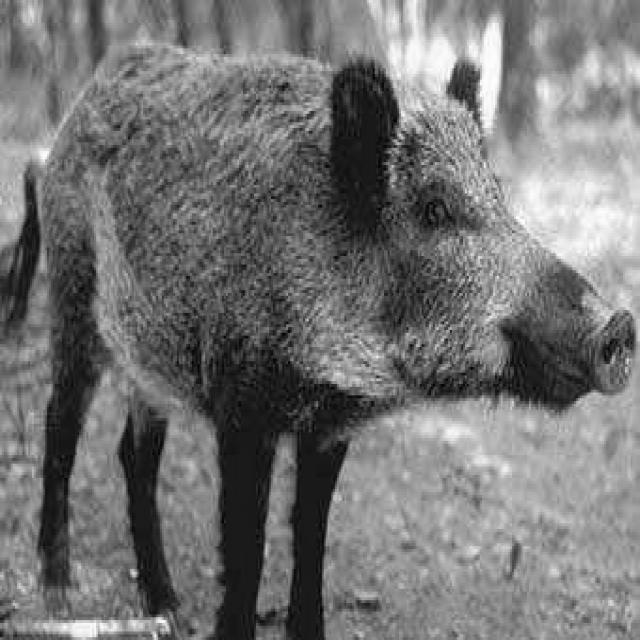boar: (43, 46, 636, 640)
